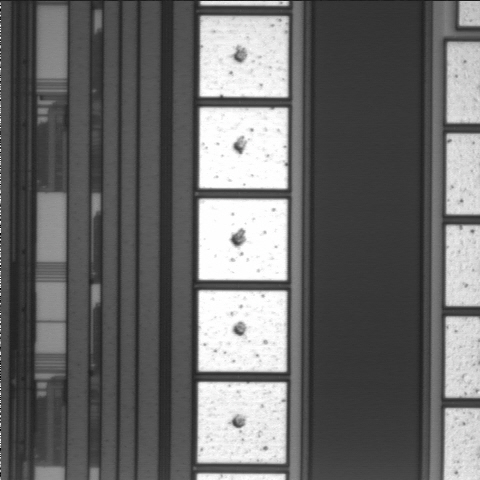pad: (199, 107, 288, 189), (198, 290, 287, 372), (197, 382, 286, 464), (200, 16, 288, 97), (199, 199, 287, 280)
